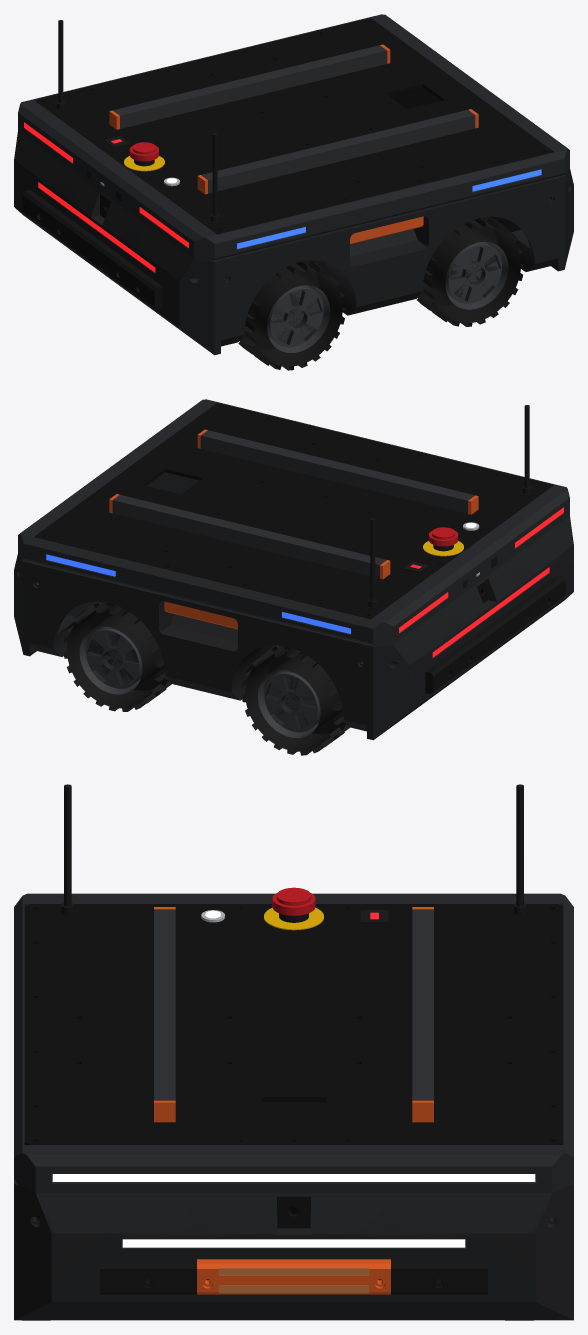
File: perceptron_preview.glb
3 views of the same model, one above another, from view 1: azimuth 30°, elevation 25°; view 2: azimuth 150°, elevation 25°; view 3: azimuth 270°, elevation 25° (orthographic). The views are drawn at different scales.
Parts seen in each view (by area): view 1: Perceptron; view 2: Perceptron; view 3: Perceptron.
Part boxes in pixels (x1=…): Perceptron: x1=14, y1=14, x2=573, y2=370; Perceptron: x1=14, y1=399, x2=573, y2=755; Perceptron: x1=14, y1=784, x2=573, y2=1320.
Size of the model in its own units: 0.646 by 0.3602 by 0.52.
